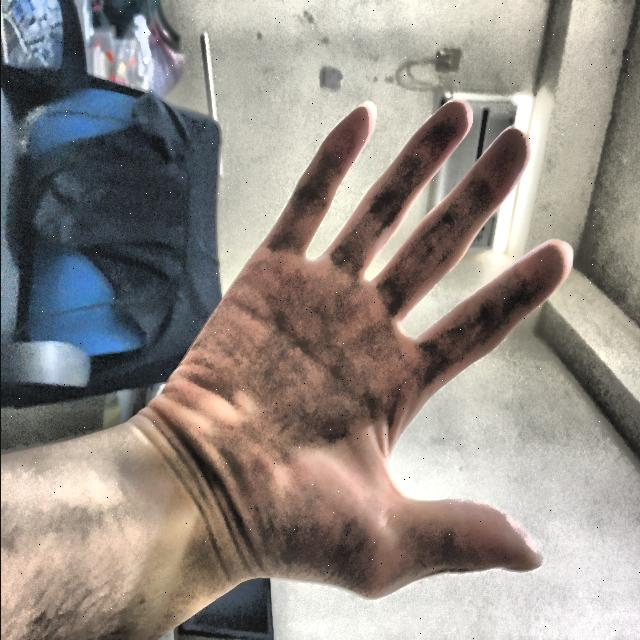not-gloved: (106, 79, 584, 612)
